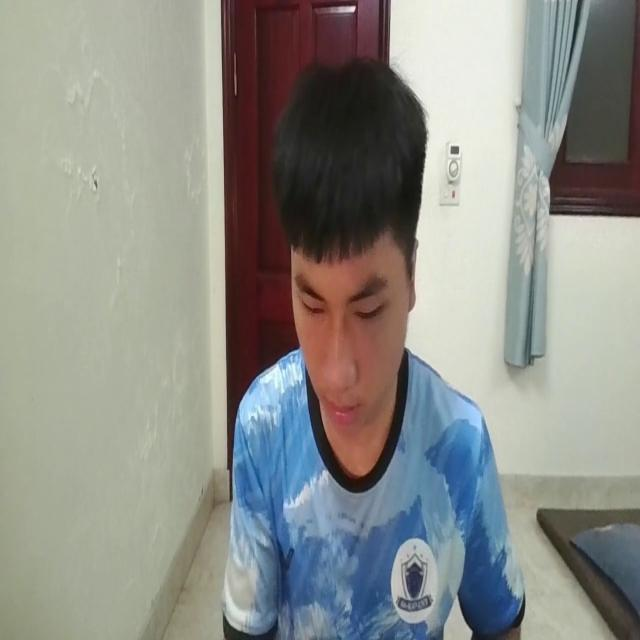student: (228, 42, 526, 640)
